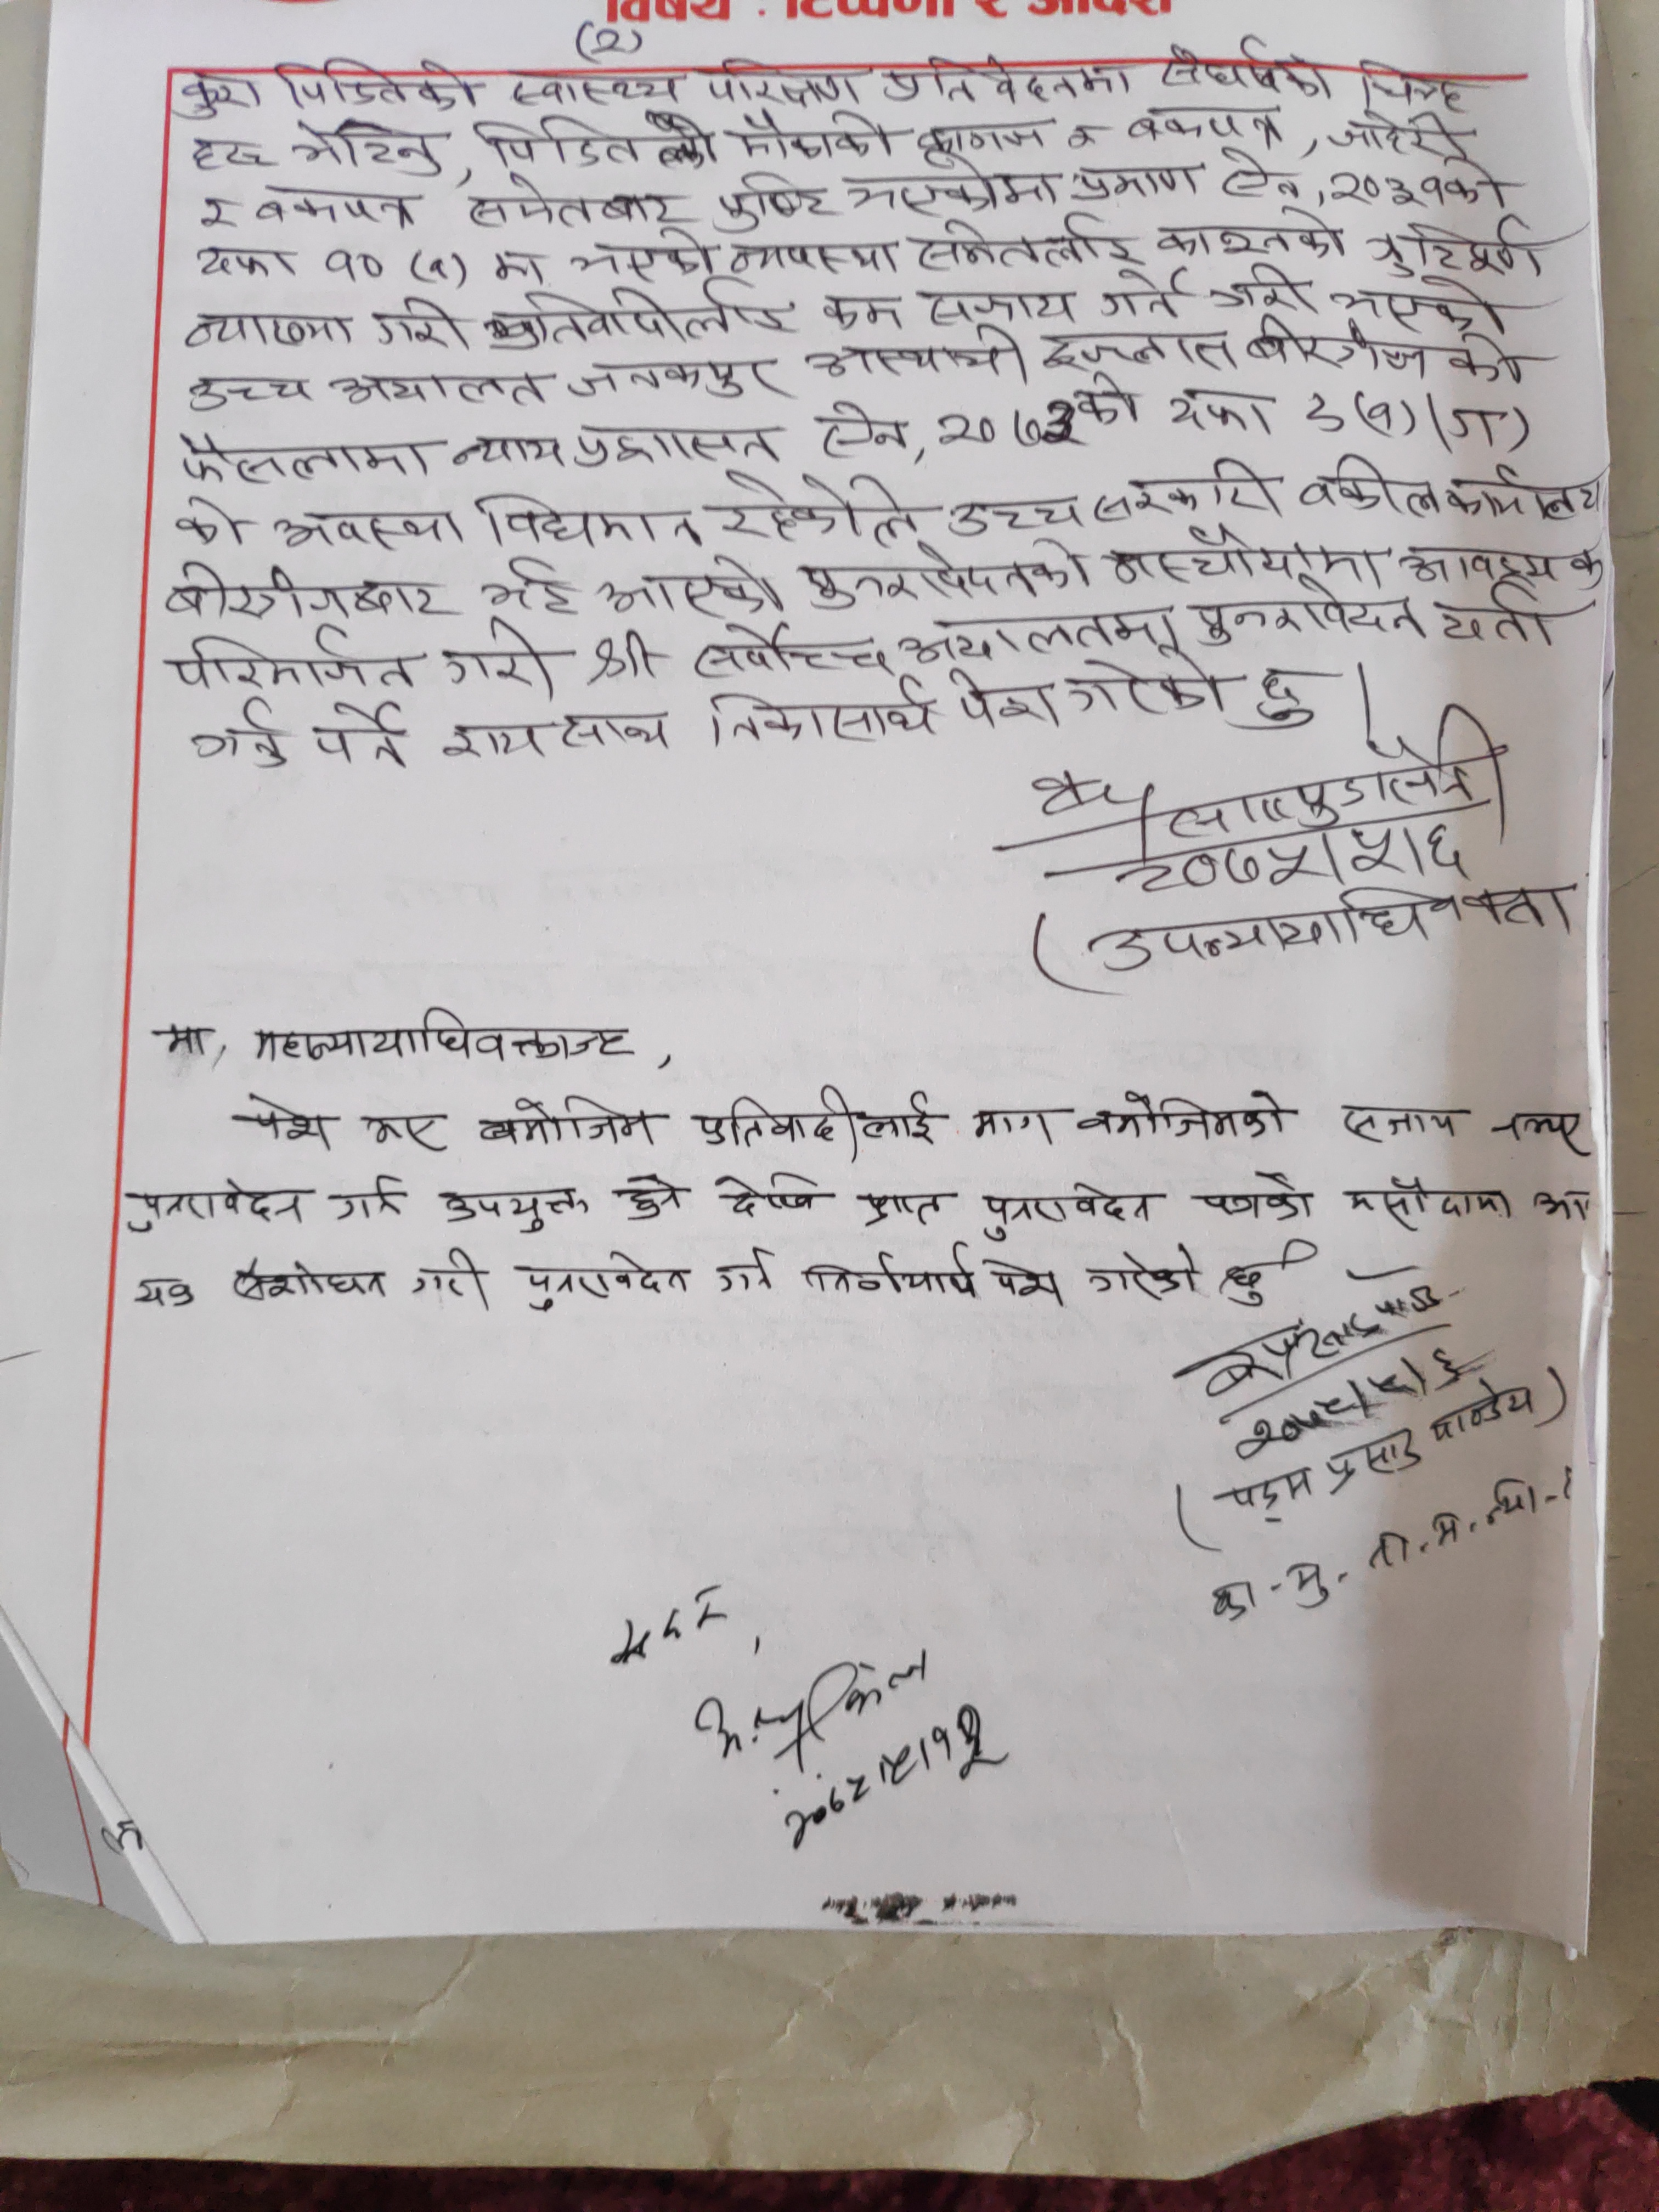text: (1082, 885, 1586, 972), (251, 1007, 641, 1075), (157, 556, 455, 627), (793, 540, 1098, 610), (1101, 517, 1384, 590), (479, 287, 809, 348), (685, 1080, 946, 1153), (167, 629, 418, 697), (702, 470, 927, 545), (477, 482, 706, 556), (901, 604, 1188, 660), (1195, 578, 1431, 646), (706, 685, 939, 751), (464, 167, 695, 232), (167, 427, 425, 484), (882, 49, 1138, 106), (840, 148, 1061, 214), (687, 615, 892, 685), (805, 329, 1030, 392), (437, 704, 671, 763), (596, 545, 786, 615), (1086, 453, 1279, 519), (279, 57, 481, 120), (1246, 312, 1432, 380), (559, 352, 798, 404), (913, 219, 1141, 273), (1068, 1087, 1288, 1143), (1323, 152, 1521, 212), (1159, 35, 1335, 103), (479, 1087, 664, 1151), (512, 1247, 695, 1312), (1394, 536, 1615, 589), (1370, 216, 1558, 277), (124, 1174, 312, 1235), (978, 1177, 1159, 1240), (1154, 204, 1351, 261), (1063, 655, 1237, 719), (293, 111, 450, 183), (1344, 1172, 1516, 1237), (1323, 275, 1504, 336), (1443, 462, 1605, 529), (1039, 326, 1237, 380), (333, 366, 558, 413), (572, 421, 786, 469), (1298, 456, 1445, 524), (441, 620, 559, 704), (439, 1170, 592, 1235), (179, 303, 361, 357), (796, 1247, 983, 1299), (721, 110, 896, 165), (725, 232, 903, 286), (1429, 578, 1565, 648), (931, 395, 1086, 456), (488, 113, 641, 174), (268, 503, 467, 550), (561, 226, 721, 284), (910, 280, 1077, 333), (225, 1256, 392, 1308), (1417, 1372, 1541, 1440), (1324, 105, 1467, 162), (312, 697, 416, 775), (711, 165, 833, 232), (709, 54, 861, 106), (192, 697, 295, 773), (251, 185, 418, 232), (941, 488, 1089, 540), (505, 68, 690, 110), (1065, 146, 1201, 202), (1187, 1169, 1323, 1224), (1080, 1245, 1202, 1306), (1124, 105, 1288, 148), (1162, 383, 1279, 442), (708, 1163, 824, 1223), (369, 293, 476, 357), (913, 113, 1044, 165), (810, 395, 908, 463), (1481, 1101, 1593, 1158), (476, 556, 584, 615), (957, 665, 1061, 726), (1323, 1428, 1424, 1491), (237, 1092, 343, 1150), (410, 1244, 497, 1313), (183, 369, 312, 416), (1338, 1101, 1466, 1146), (1354, 57, 1464, 110), (1204, 260, 1314, 312), (1218, 1465, 1314, 1524), (448, 428, 568, 475), (1089, 268, 1185, 326), (186, 239, 298, 287), (965, 1101, 1063, 1155), (1213, 146, 1307, 202), (171, 68, 261, 125), (816, 286, 908, 341), (985, 1249, 1065, 1310), (328, 1170, 408, 1230), (587, 622, 660, 686), (186, 127, 274, 181), (171, 491, 244, 554), (1249, 669, 1321, 732), (1448, 333, 1530, 387), (854, 1183, 945, 1231), (366, 1108, 453, 1155), (1075, 373, 1140, 430), (613, 1174, 687, 1223), (709, 1247, 779, 1294), (1446, 401, 1509, 451), (1222, 1249, 1272, 1312), (132, 1271, 197, 1320), (321, 242, 390, 286), (1297, 383, 1347, 439), (153, 1021, 216, 1062), (477, 247, 540, 286), (193, 185, 234, 237), (1061, 115, 1103, 158), (1366, 402, 1389, 432)
